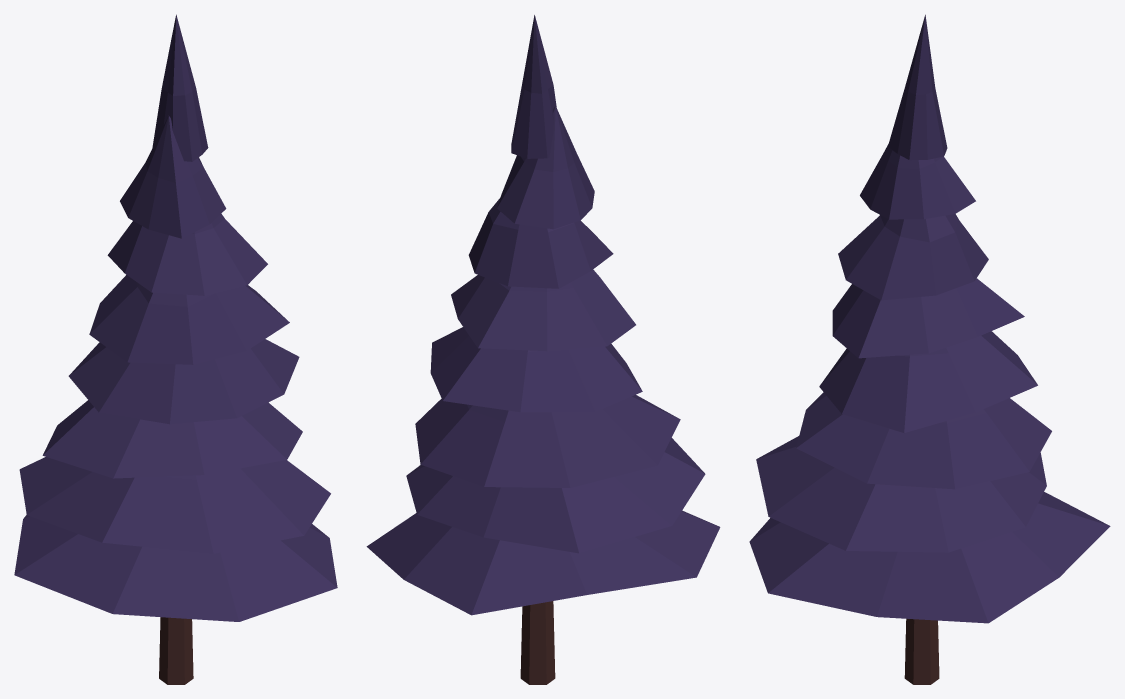
The model's file is tree_pine_1.glb.
3 renders of one model, left to right at view 1: azimuth 30°, elevation 25°; view 2: azimuth 150°, elevation 25°; view 3: azimuth 270°, elevation 25°, orthographic.
Parts seen in each view (by area): view 1: tree_pine_1; view 2: tree_pine_1; view 3: tree_pine_1.
Part boxes in pixels (bbox=[...]): tree_pine_1: bbox=[14, 14, 337, 684]; tree_pine_1: bbox=[366, 15, 720, 684]; tree_pine_1: bbox=[749, 14, 1110, 684].
Size of the model in its own units: 6.58 by 14 by 6.89.
